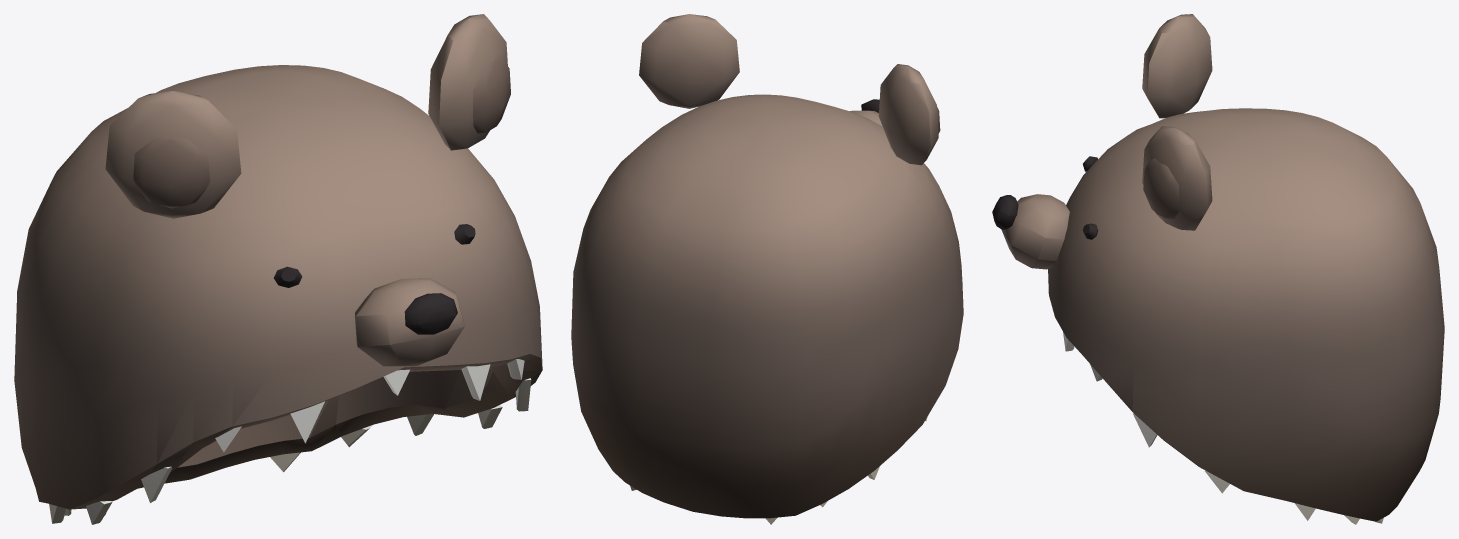
File: helmet_light.glb
The picture shows the model from 3 angles, left to right: view 1: azimuth 30°, elevation 25°; view 2: azimuth 150°, elevation 25°; view 3: azimuth 270°, elevation 25°; orthographic projection. The views are drawn at different scales.
Parts seen in each view (by area): view 1: Item; view 2: Item; view 3: Item.
Part boxes in pixels (x1,y1,x2,y2): Item: (14, 14, 542, 524); Item: (571, 14, 963, 524); Item: (992, 14, 1444, 524).
Bounding box in the file's own units: 1.3 × 1.53 × 1.51.
Materials: 2 (2 with a texture image).
